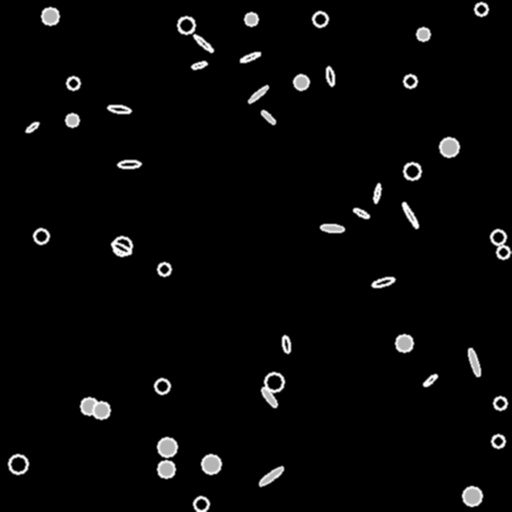pseudomonas: (258, 465, 284, 487), (401, 201, 419, 229), (466, 348, 482, 376), (192, 33, 214, 53), (247, 84, 269, 104), (260, 386, 278, 408), (111, 241, 131, 255), (372, 276, 394, 288), (260, 109, 276, 125), (107, 104, 131, 114), (240, 51, 260, 63), (422, 373, 438, 387), (352, 207, 370, 219), (325, 66, 335, 86), (25, 120, 39, 134), (281, 335, 291, 353), (321, 224, 343, 232), (373, 183, 381, 203), (117, 161, 141, 167), (191, 61, 207, 69)
synechocystis: (202, 455, 220, 473), (265, 373, 283, 391), (463, 487, 481, 505), (158, 438, 176, 456), (440, 138, 458, 156), (9, 455, 27, 473), (113, 237, 131, 255), (158, 461, 174, 477), (81, 398, 97, 414), (404, 163, 420, 179), (93, 402, 109, 418), (178, 17, 194, 33), (396, 335, 412, 351), (42, 8, 58, 24), (155, 379, 169, 393), (194, 497, 208, 511), (34, 229, 48, 243), (491, 230, 505, 244), (294, 75, 308, 89), (313, 12, 327, 26), (404, 75, 416, 87), (492, 435, 504, 447), (494, 397, 506, 409), (67, 77, 79, 89), (417, 28, 429, 40), (66, 114, 78, 126), (158, 263, 170, 275), (497, 246, 509, 258), (475, 3, 487, 15), (245, 13, 257, 25)
